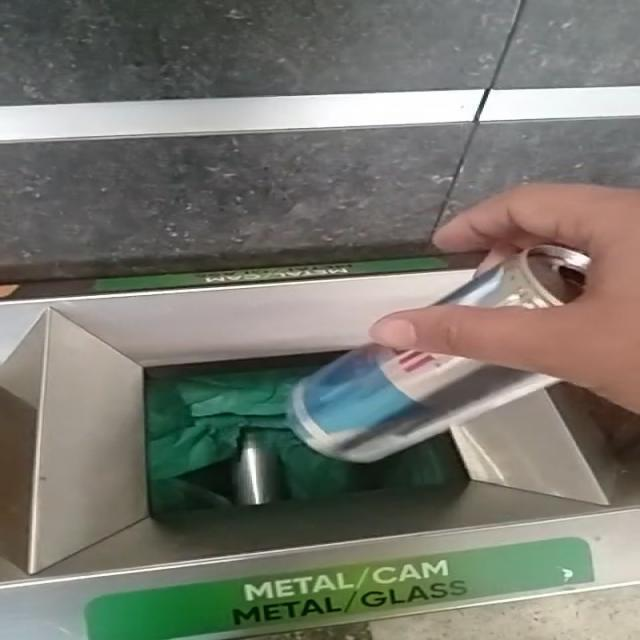Bin: (2, 269, 640, 640)
Metal: (287, 344, 560, 463), (436, 245, 591, 310), (235, 432, 277, 505)
